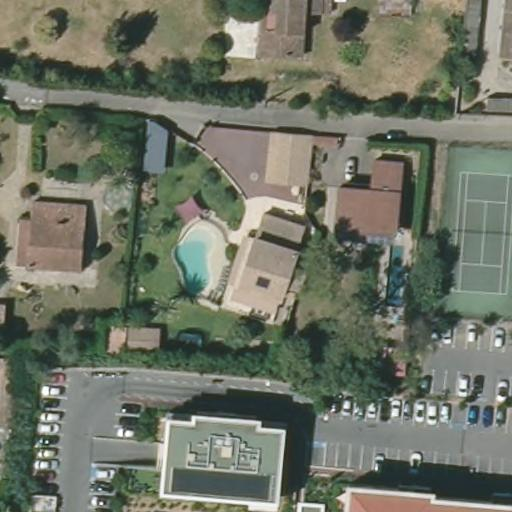pool: (170, 226, 214, 294)
